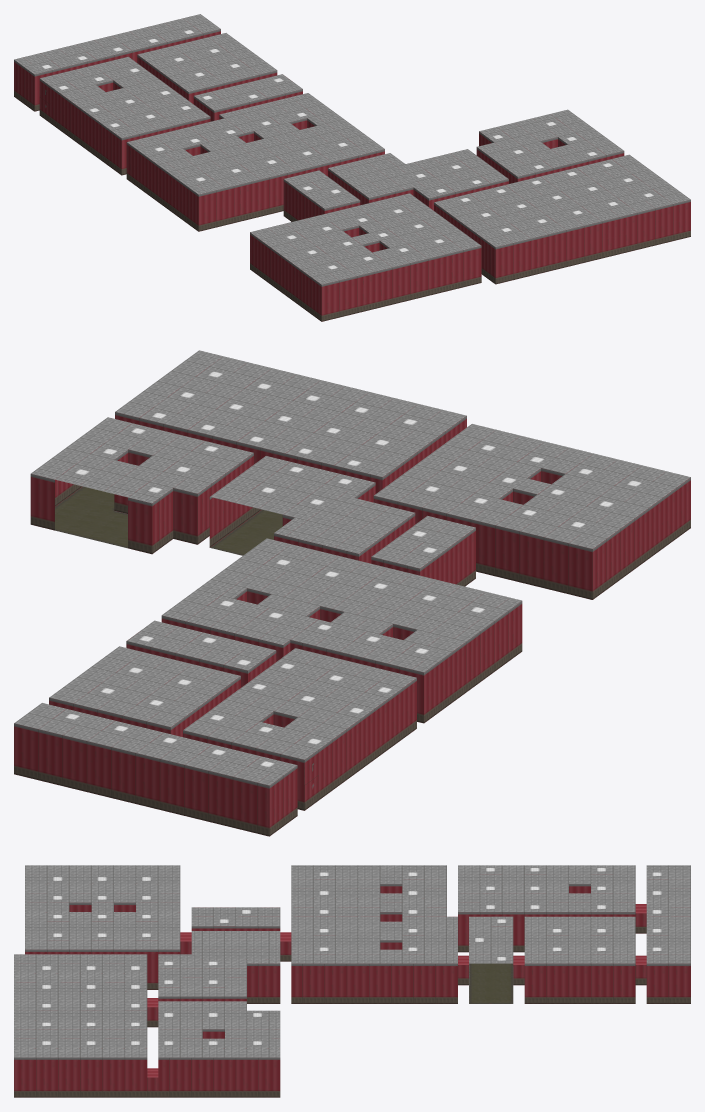
File: DeathFloorModelsPack2.fbx
3 renders of one model, top to bottom at view 1: azimuth 30°, elevation 25°; view 2: azimuth 150°, elevation 25°; view 3: azimuth 270°, elevation 25°, orthographic. The views are drawn at different scales.
Parts seen in each view (by area): view 1: NorthOfficeCeil, Ceiling.272, Ceiling.225, NorthWestOffice, SouthWestOffice, NorthOffice, MonkeyBusinessCeil, Ceiling.329, Ceiling.346, MeetingsRoomCeil, MonkeyBusiness, LongBigCorridorCeil (+8 smaller); view 2: NorthOfficeCeil, Ceiling.272, Ceiling.225, LongBigCorridor, MonkeyBusinessCeil, NorthWestOffice, Ceiling.329, CursedCorner, Ceiling.346, MeetingsRoomCeil, NorthOffice, MonkeyBusiness (+8 smaller); view 3: NorthOfficeCeil, Ceiling.272, Ceiling.225, MonkeyBusinessCeil, NorthOffice, Ceiling.329, Ceiling.346, SouthWestOffice, MeetingsRoomCeil, CursedCorner, MeetingsRoom, LongBigCorridorCeil (+8 smaller).
Boxes of the visible parts, left/top/right/bottom form: NorthOfficeCeil: left=127, top=93, right=384, bottom=194; Ceiling.272: left=434, top=154, right=690, bottom=247; Ceiling.225: left=250, top=193, right=481, bottom=284; NorthWestOffice: left=250, top=221, right=490, bottom=321; SouthWestOffice: left=434, top=151, right=690, bottom=284; NorthOffice: left=126, top=115, right=384, bottom=231; MonkeyBusinessCeil: left=40, top=56, right=209, bottom=138; Ceiling.329: left=477, top=109, right=623, bottom=176; Ceiling.346: left=328, top=149, right=508, bottom=198; MeetingsRoomCeil: left=137, top=33, right=276, bottom=91; MonkeyBusiness: left=39, top=57, right=210, bottom=175; LongBigCorridorCeil: left=14, top=14, right=220, bottom=74; NorthOfficeCeil: left=162, top=538, right=521, bottom=672; Ceiling.272: left=115, top=350, right=466, bottom=477; Ceiling.225: left=374, top=424, right=690, bottom=548; LongBigCorridor: left=14, top=723, right=297, bottom=836; MonkeyBusinessCeil: left=183, top=648, right=416, bottom=759; NorthWestOffice: left=373, top=421, right=690, bottom=599; Ceiling.329: left=31, top=417, right=253, bottom=503; CursedCorner: left=30, top=449, right=253, bottom=554; Ceiling.346: left=210, top=456, right=414, bottom=553; MeetingsRoomCeil: left=49, top=646, right=240, bottom=727; NorthOffice: left=161, top=557, right=522, bottom=723; MonkeyBusiness: left=183, top=678, right=416, bottom=810; NorthOfficeCeil: left=291, top=865, right=457, bottom=963; Ceiling.272: left=14, top=954, right=147, bottom=1057; Ceiling.225: left=25, top=865, right=180, bottom=949; MonkeyBusinessCeil: left=458, top=865, right=635, bottom=911; NorthOffice: left=280, top=884, right=457, bottom=1003; Ceiling.329: left=158, top=1001, right=280, bottom=1057; Ceiling.346: left=158, top=931, right=280, bottom=996; SouthWestOffice: left=14, top=1057, right=158, bottom=1097; MeetingsRoomCeil: left=524, top=916, right=635, bottom=963; CursedCorner: left=158, top=1029, right=280, bottom=1097; MeetingsRoom: left=524, top=955, right=646, bottom=1003; LongBigCorridorCeil: left=646, top=865, right=690, bottom=963.
Size of the model in its own units: 41 by 4 by 61.
